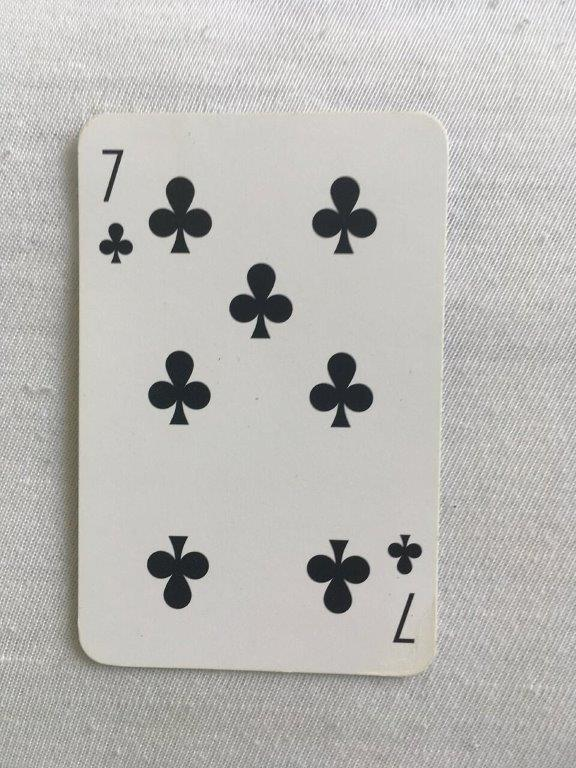7C: (72, 106, 453, 682)
